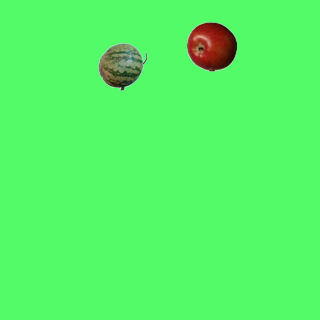Apple Braeburn: (186, 21, 236, 71)
Watermelon: (97, 41, 147, 91)
